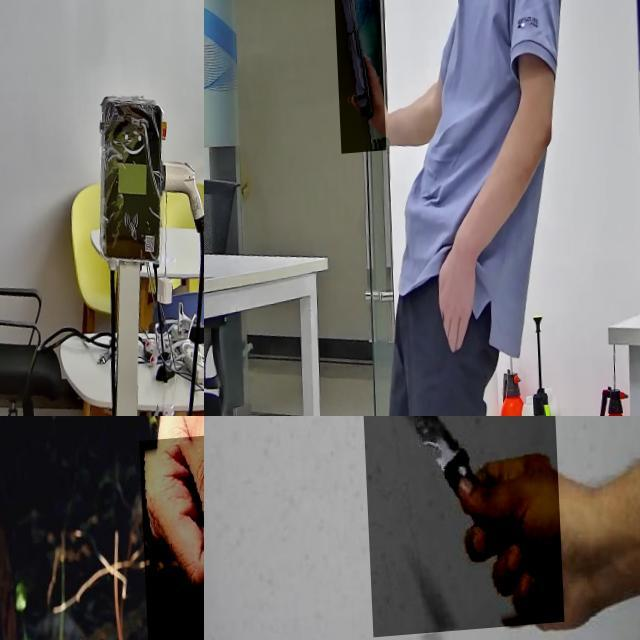-: (357, 416, 559, 640), (136, 434, 204, 640)
gun-knife-thesis - v11 Yolov5 augmented: (332, 0, 384, 157), (0, 0, 24, 47)
